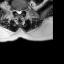CCS_severe_stenosis: (18, 8, 20, 16)
LFS_stenosis: (22, 7, 24, 13)
LLS_normal: (20, 8, 22, 15)
RFS_stenosis: (13, 6, 16, 13)
RLS_normal: (16, 8, 18, 15)
